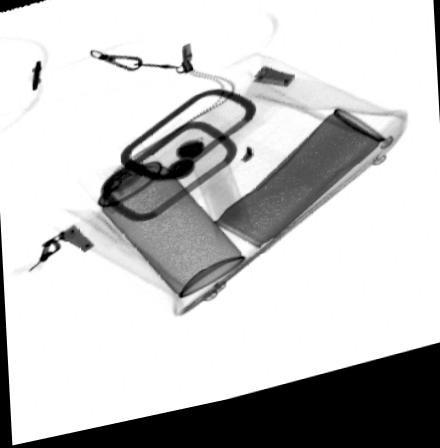Sprayer: (71, 138, 247, 307)
